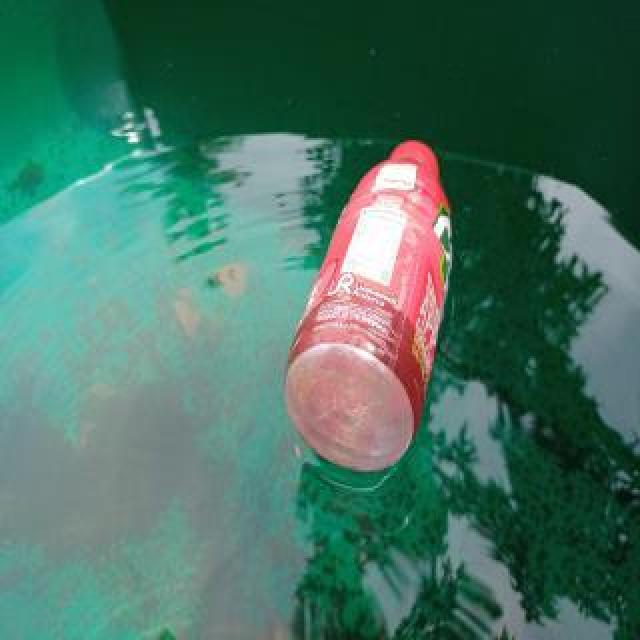bottle: (274, 129, 458, 481)
